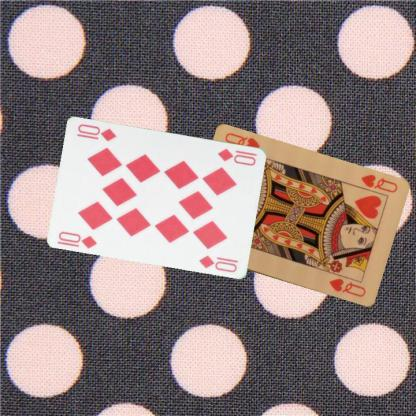10d: (216, 146, 258, 167), (56, 228, 98, 249)
Qh: (358, 172, 398, 194)
